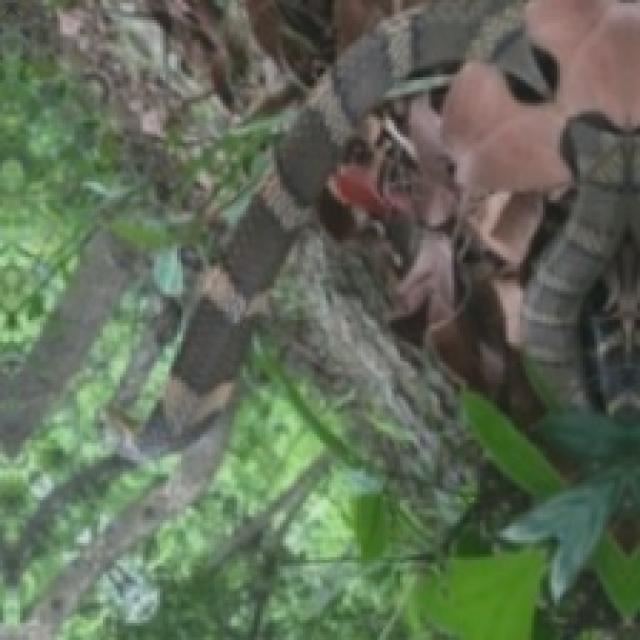king cobra: (89, 1, 496, 463), (526, 120, 640, 366), (490, 29, 560, 105)
